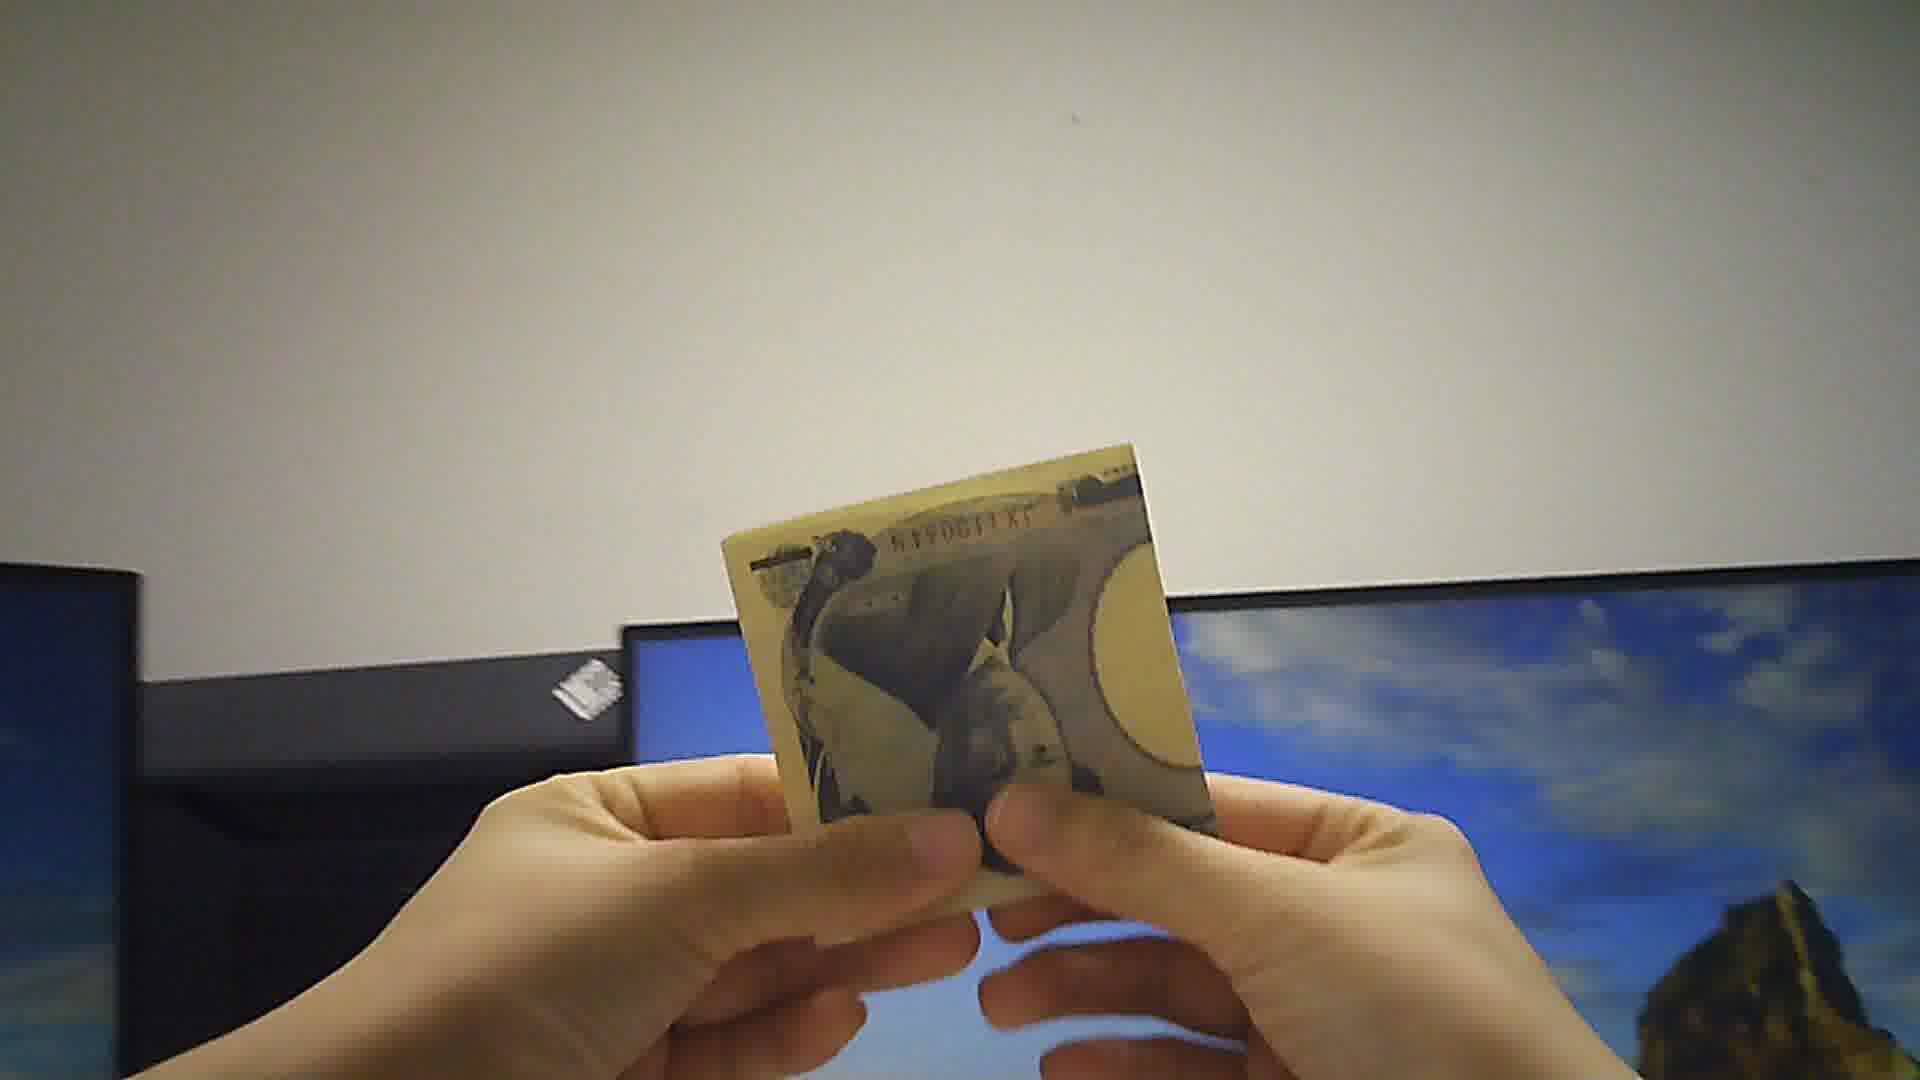1,000 Yen: (708, 446, 1221, 909)
